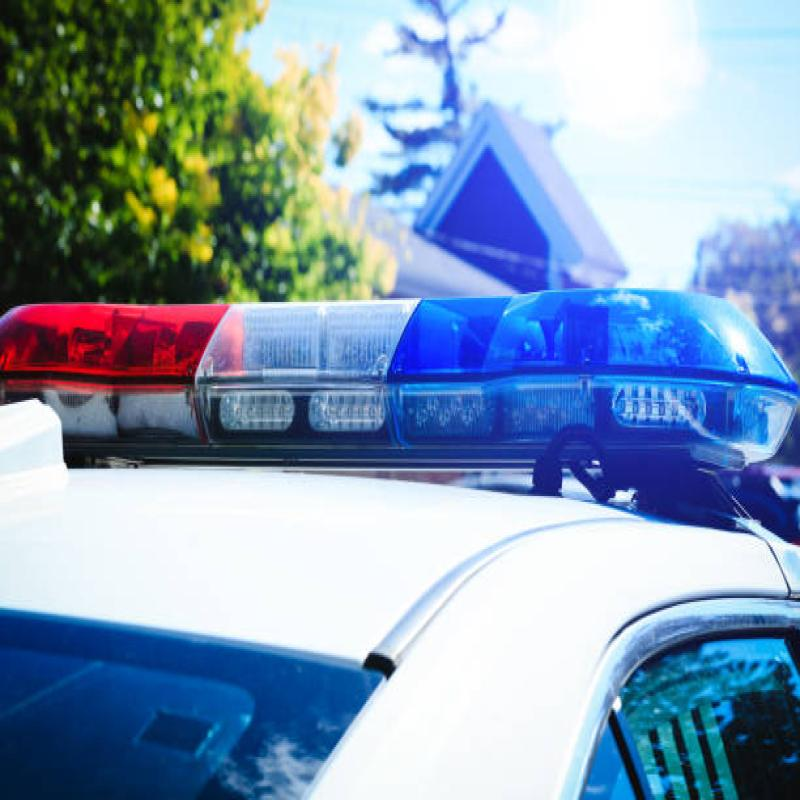AmbulanceSiren: (1, 253, 800, 537)
